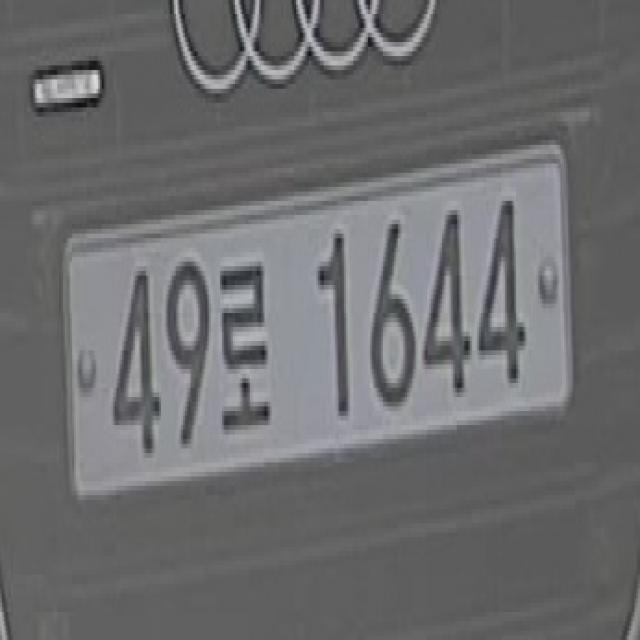1: (312, 211, 358, 438)
4: (106, 254, 162, 464), (478, 187, 534, 397), (423, 198, 475, 406)
6: (364, 198, 420, 424)
9: (164, 242, 210, 453)
lo: (215, 231, 282, 447)
